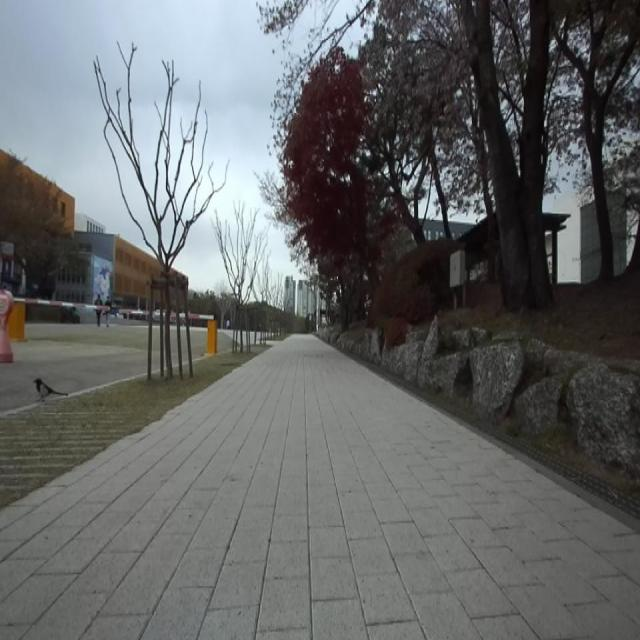sidewalk: (0, 336, 640, 639)
